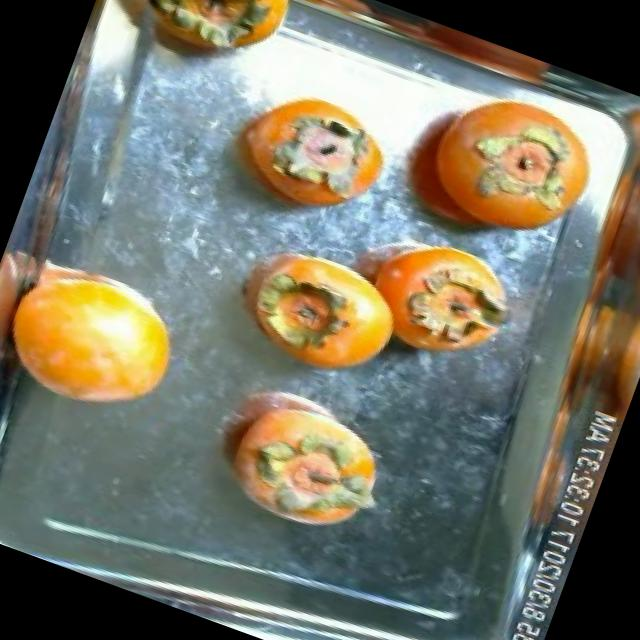Fruit: (0, 229, 209, 445), (190, 363, 414, 558), (322, 203, 547, 394), (202, 58, 416, 249), (221, 237, 421, 404)
